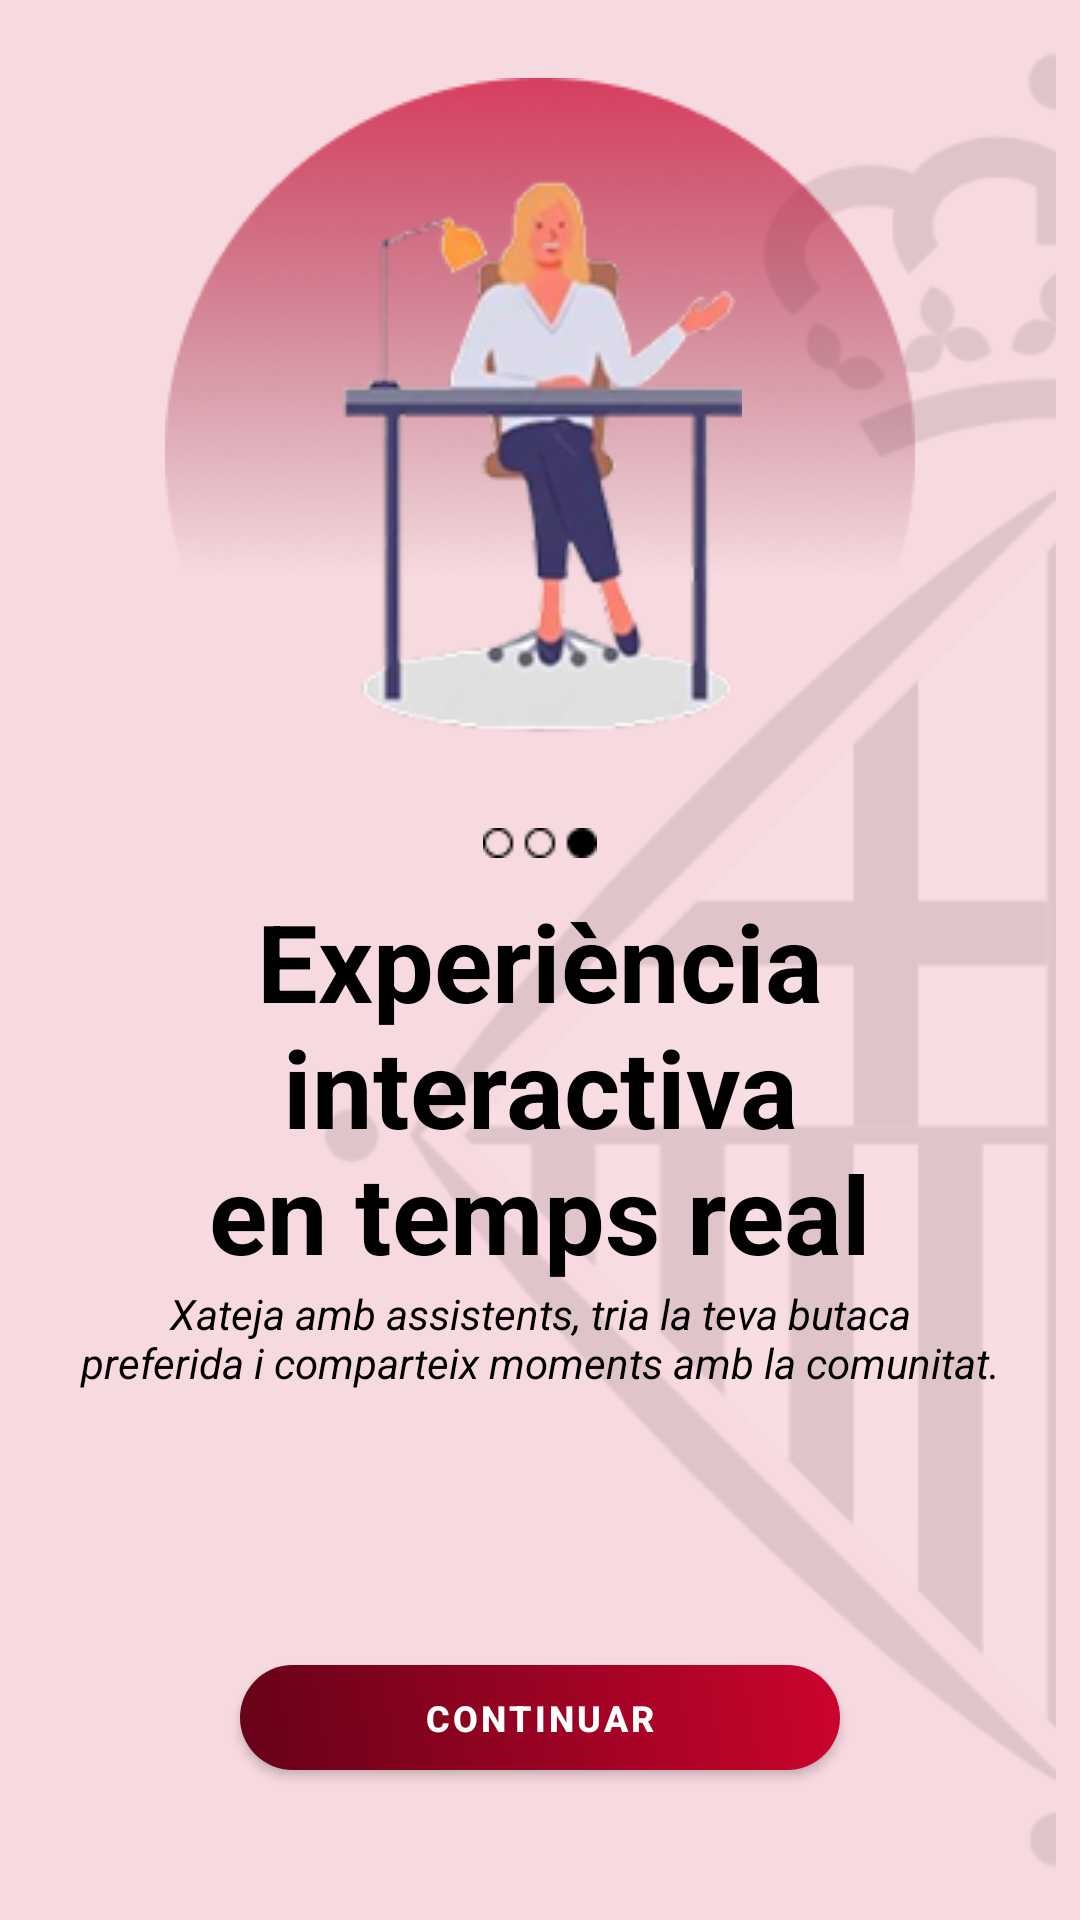

Named icons in this screenshot (1080×1920) and their centers, [x,y]:
onboarding circulos: [540,843]
